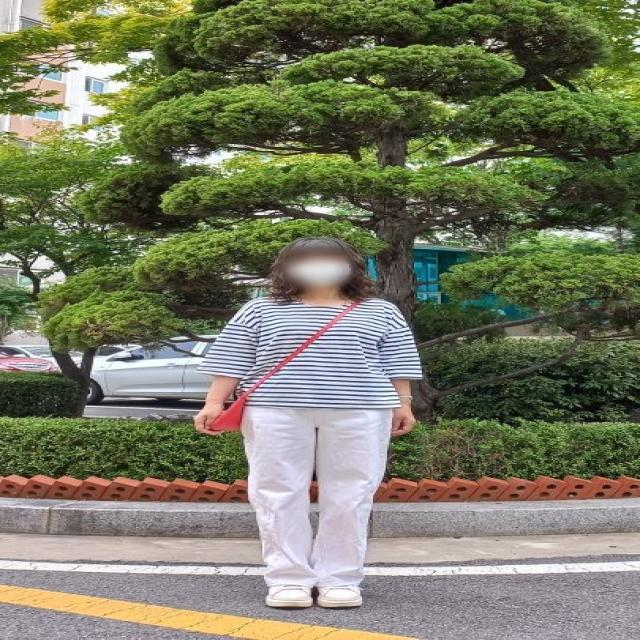cottonpants: (239, 405, 389, 589)
longsleeve: (200, 297, 430, 411)
